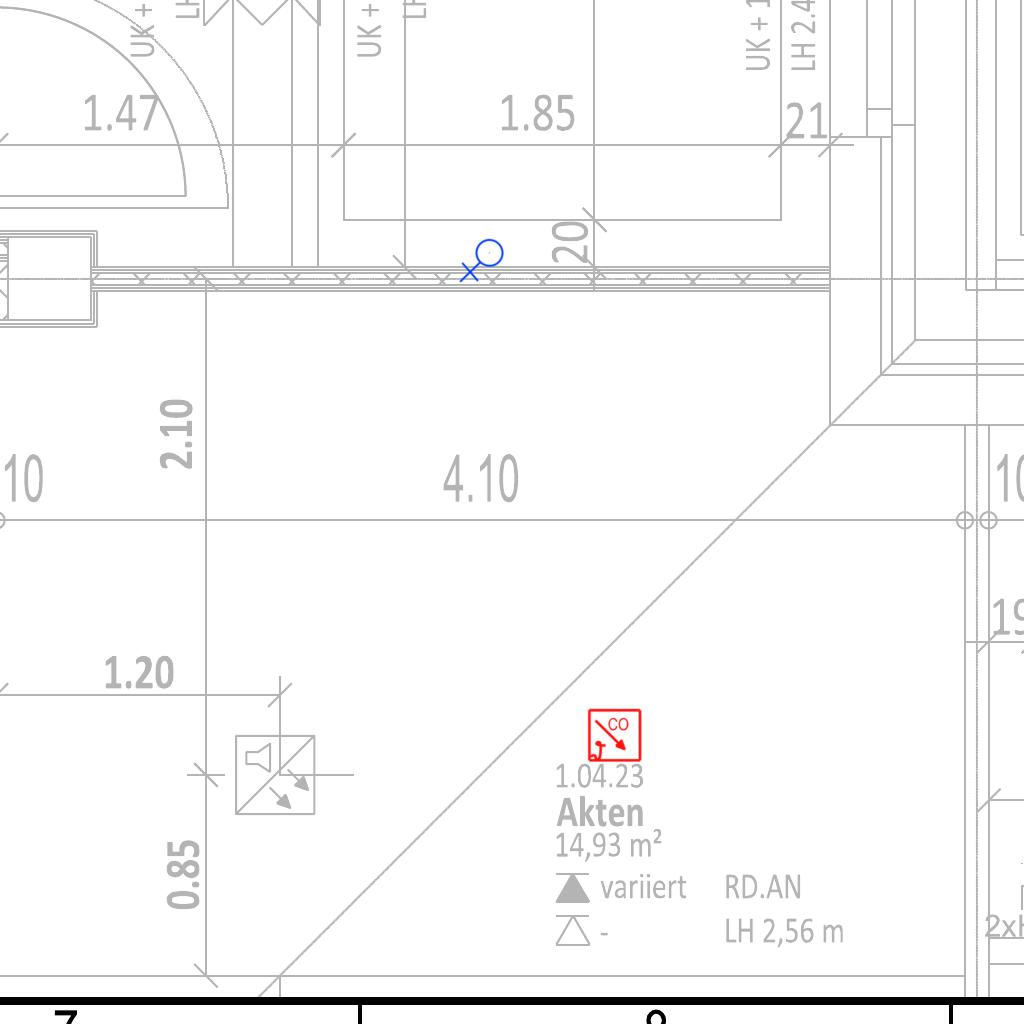Elektroanschluss_allgemein_230V_Geraeteanschlussdose_230V: (459, 238, 508, 285)
ROA_Rauchmelder_optisch_mit_Signalgeber_(Sockelsirene): (587, 708, 643, 764)
